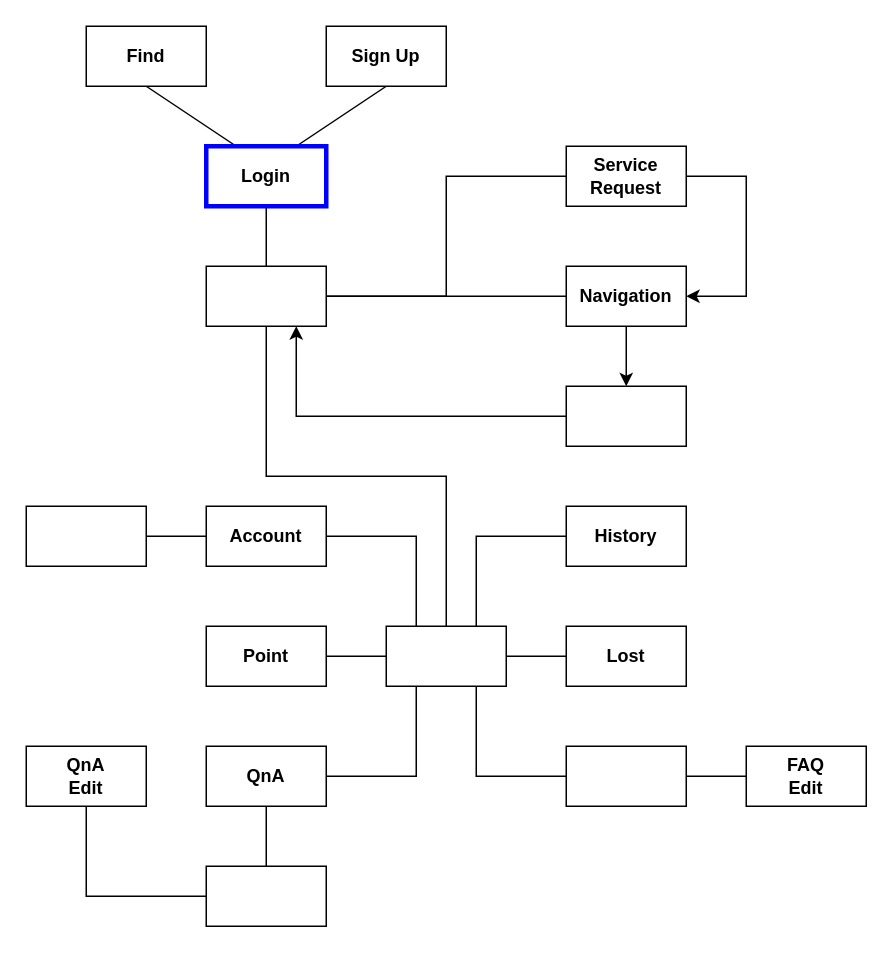
Image size: 893x953. Some labels were removed from this diagram. The centre of each missing label's shape, as x and y in pixels:
"Account Edit" goes at [85,535].
"FAQ" goes at [625,775].
"Main" goes at [265,295].
"Menu" goes at [445,655].
"Payment" goes at [625,415].
"QnA Detail" goes at [265,895].
